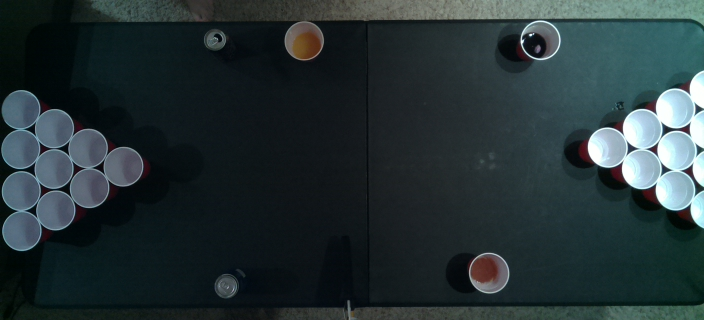active bp cup: (585, 126, 628, 169), (653, 86, 696, 129), (32, 107, 75, 150), (621, 148, 663, 191), (69, 167, 111, 209), (34, 189, 76, 231), (653, 170, 696, 211), (101, 146, 144, 187), (623, 106, 663, 150), (67, 128, 109, 169), (0, 88, 41, 130), (33, 148, 74, 190), (656, 130, 697, 171), (0, 169, 41, 210), (1, 210, 42, 251), (0, 130, 41, 169), (687, 68, 703, 108), (688, 108, 703, 148), (688, 189, 703, 229), (691, 149, 703, 189)
can: (211, 269, 243, 300), (198, 25, 230, 53)
drink cup: (467, 251, 511, 295), (517, 19, 562, 61), (283, 20, 325, 61)
